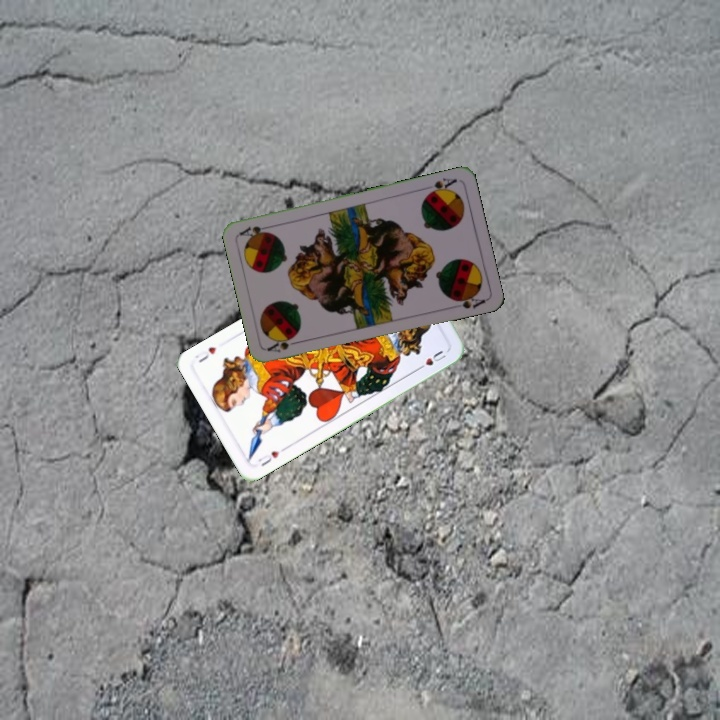HU: (254, 443, 289, 469)
SA: (420, 174, 460, 198), (264, 333, 304, 355)
